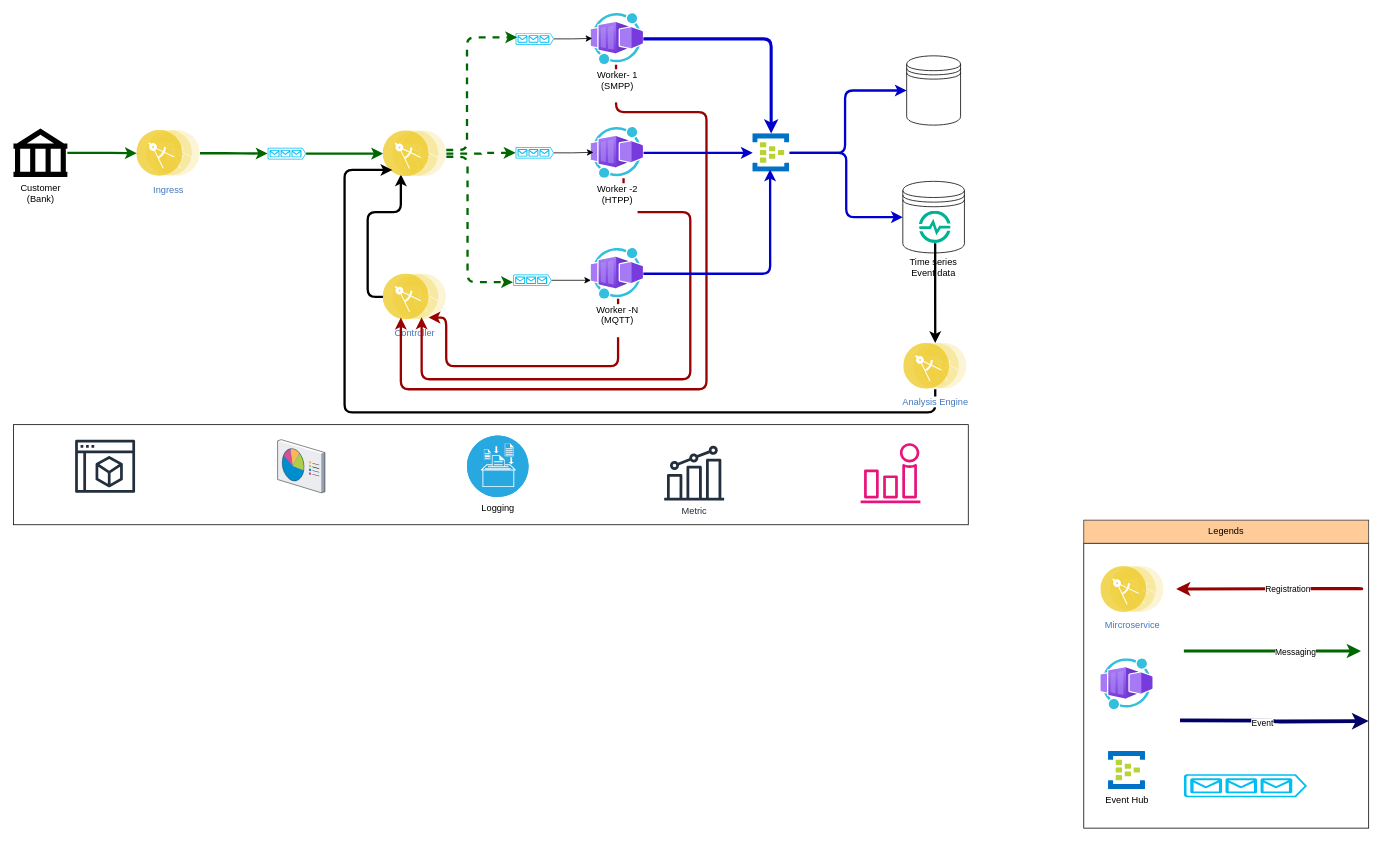
Image size: 1390x842. Some labels were removed from this diagram. The shapes that lost their labels are listed below. From the top down, each one's centre as x and y in pixels, then its label:
At [933,90]: "Append Only DB".
At [414,153]: "Decision Engine".
At [105,465]: "Management Console".
At [301,465]: "Reporting".
At [890,473]: "Alarms".
At [1126,683]: "Worker pod".
At [1245,785]: "Durable Messaging Queue".
